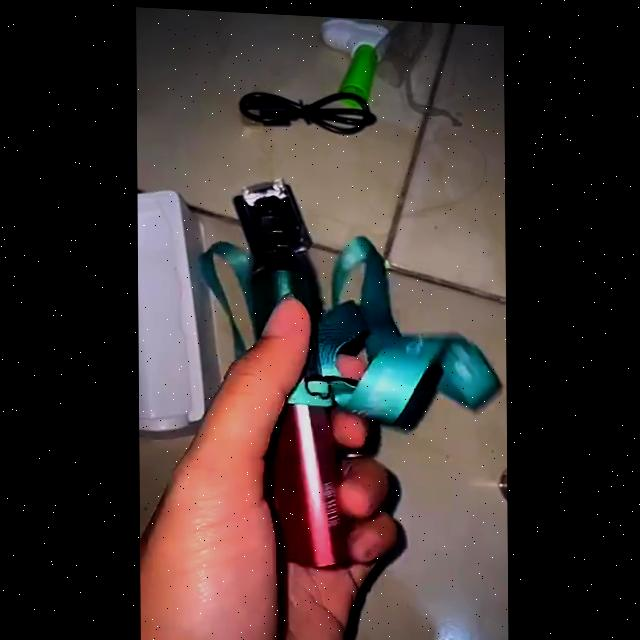vape: (246, 194, 349, 566)
